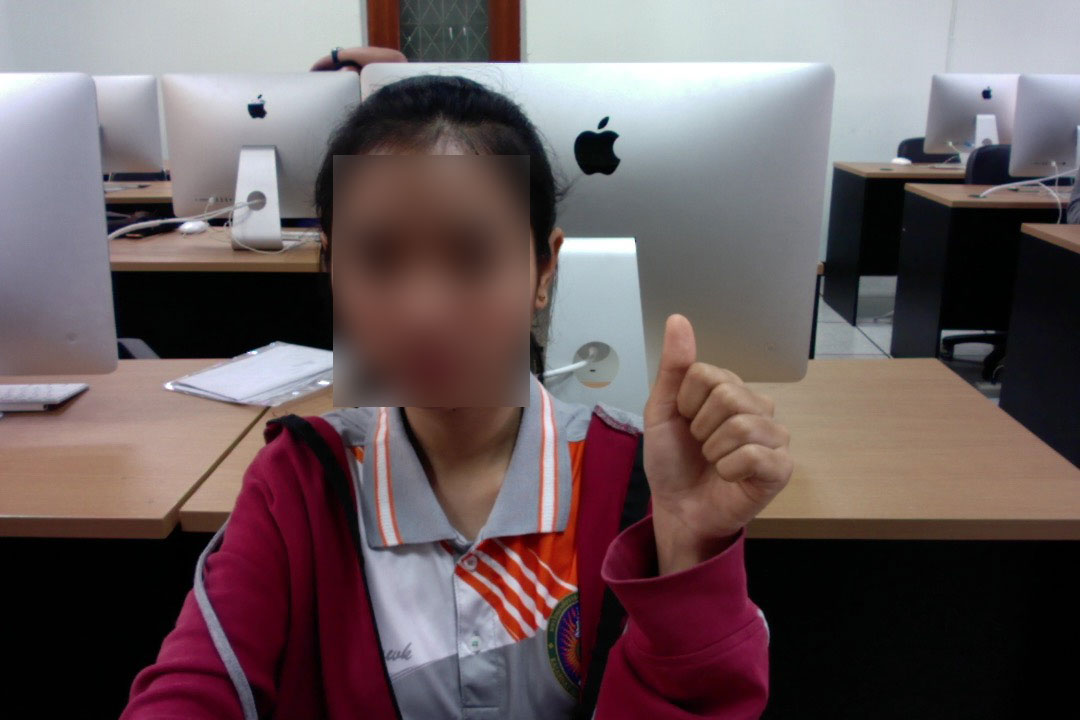or: (631, 306, 809, 579)
